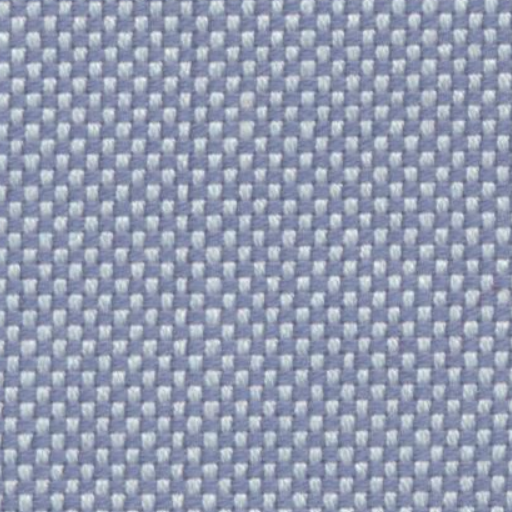TuoSha: (172, 20, 244, 498)
